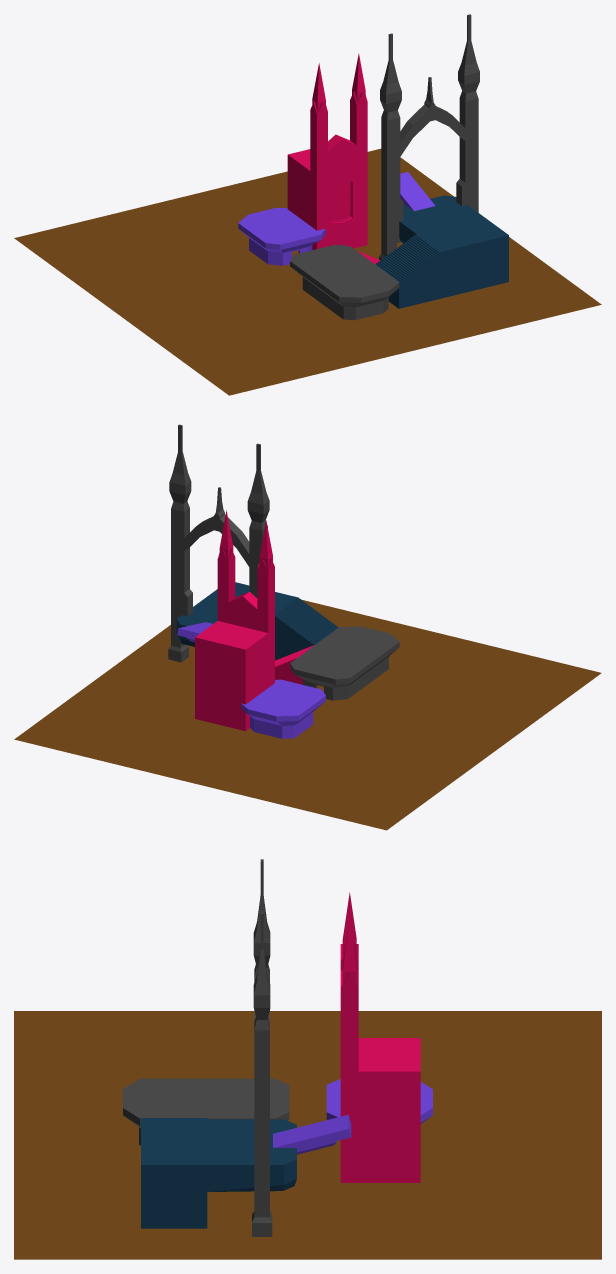
The model's file is chunk.glb.
3 renders of one model, top to bottom at view 1: azimuth 30°, elevation 25°; view 2: azimuth 150°, elevation 25°; view 3: azimuth 270°, elevation 25°, orthographic. The views are drawn at different scales.
Parts seen in each view (by area): view 1: ground, Cube, Cube.006, Cube.004, Cube.001, Cube.003, Cube.005; view 2: ground, Cube.006, Cube.004, Cube.001, Cube, Cube.003, Cube.002; view 3: ground, Cube.006, Cube, Cube.001, Cube.004, Cube.005, Cube.003.
Part boxes in pixels (bbox=[...]): ground: bbox=[14, 148, 601, 395]; Cube: bbox=[375, 195, 508, 308]; Cube.006: bbox=[287, 53, 367, 249]; Cube.004: bbox=[379, 14, 479, 259]; Cube.001: bbox=[290, 244, 399, 320]; Cube.003: bbox=[238, 207, 325, 265]; Cube.005: bbox=[400, 172, 435, 210]; ground: bbox=[14, 599, 601, 830]; Cube.006: bbox=[195, 510, 274, 731]; Cube.004: bbox=[168, 424, 269, 662]; Cube.001: bbox=[290, 626, 399, 700]; Cube: bbox=[176, 582, 338, 660]; Cube.003: bbox=[241, 679, 325, 738]; Cube.002: bbox=[275, 645, 313, 684]; ground: bbox=[14, 1011, 601, 1259]; Cube.006: bbox=[340, 892, 420, 1182]; Cube: bbox=[141, 1118, 296, 1228]; Cube.001: bbox=[123, 1078, 289, 1145]; Cube.004: bbox=[252, 859, 272, 1236]; Cube.005: bbox=[273, 1114, 351, 1154]; Cube.003: bbox=[326, 1079, 432, 1123].
Size of the model in its own units: 120 by 72.29 by 120.
